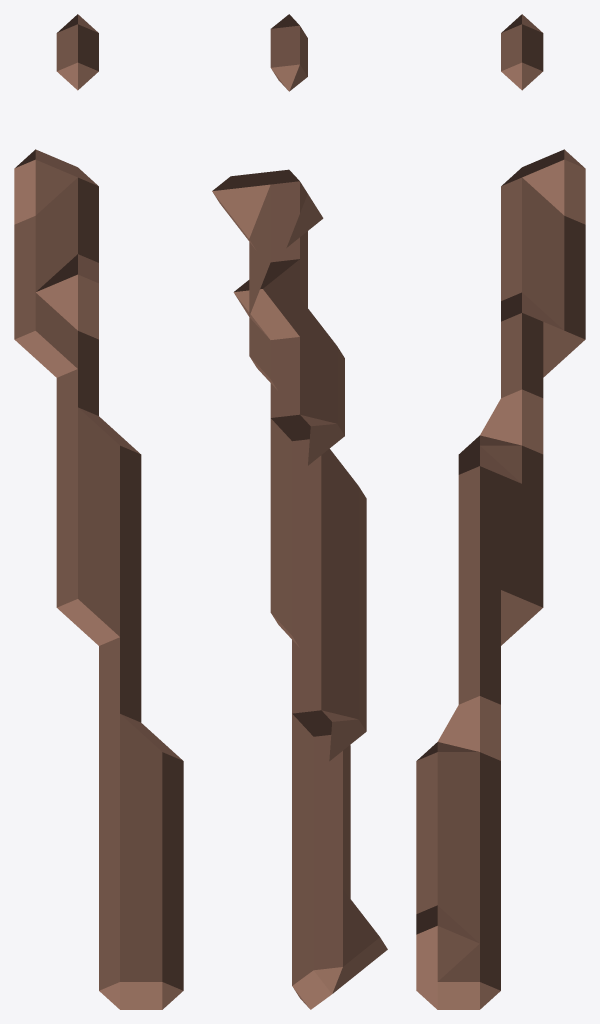
File: region_0010_C__central_canal_.glb
3 renders of one model, left to right at view 1: azimuth 90°, elevation 25°; view 2: azimuth 150°, elevation 25°; view 3: azimuth 270°, elevation 25°, orthographic.
Visible parts, largest first — view 1: world; view 2: world; view 3: world.
Boxes of the visible parts, left/top/right/bottom form: world: left=14, top=14, right=183, bottom=1009; world: left=212, top=14, right=387, bottom=1009; world: left=416, top=14, right=585, bottom=1009.
Size of the model in its own units: 0.024 by 0.208 by 0.032.
